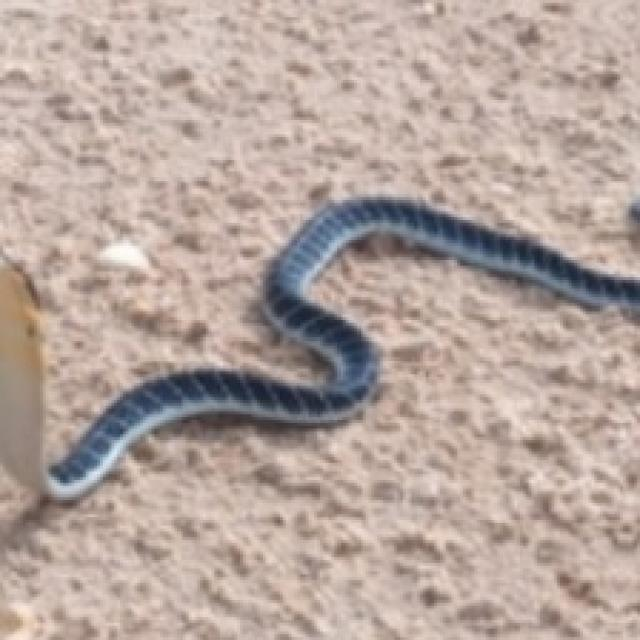king cobra: (0, 197, 637, 500), (46, 197, 637, 497)
